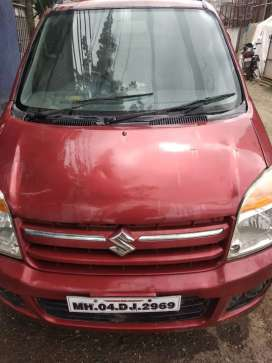license_plate: (61, 293, 188, 318)
